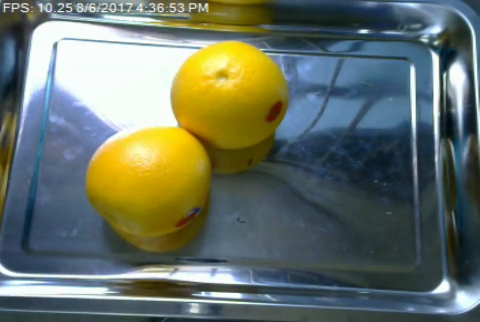Orange: (84, 124, 210, 234), (169, 39, 287, 149)
